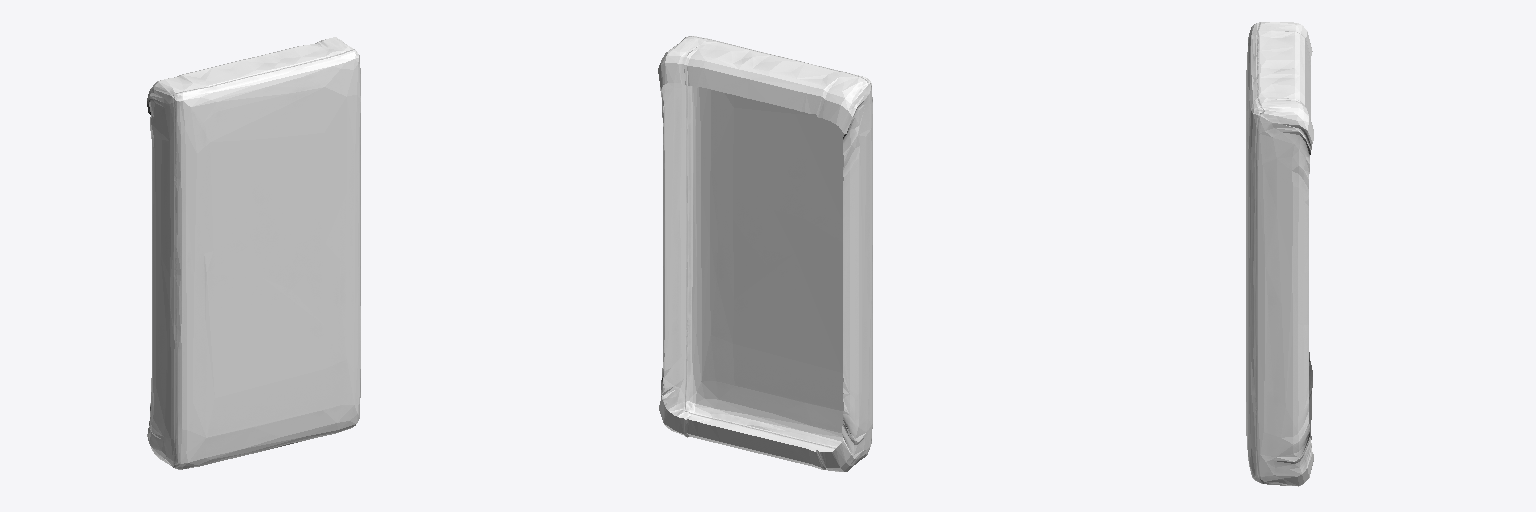
3 renders of one model, left to right at view 1: azimuth 30°, elevation 25°; view 2: azimuth 150°, elevation 25°; view 3: azimuth 270°, elevation 25°, orthographic.
Visible parts, largest first — view 1: BedMattress_26_1; view 2: BedMattress_26_1; view 3: BedMattress_26_1.
Boxes of the visible parts, x1=… form: BedMattress_26_1: x1=147, y1=37, x2=360, y2=469; BedMattress_26_1: x1=658, y1=36, x2=872, y2=471; BedMattress_26_1: x1=1246, y1=22, x2=1313, y2=486.
Size of the model in its own units: 1.23 by 2.32 by 0.3745.
1 materials, 1 textured.